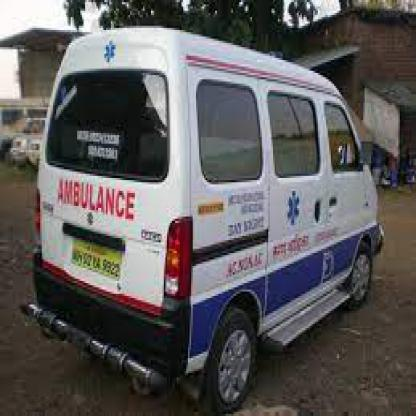Ambulance: (45, 171, 144, 226), (282, 186, 304, 228), (96, 38, 121, 66)
